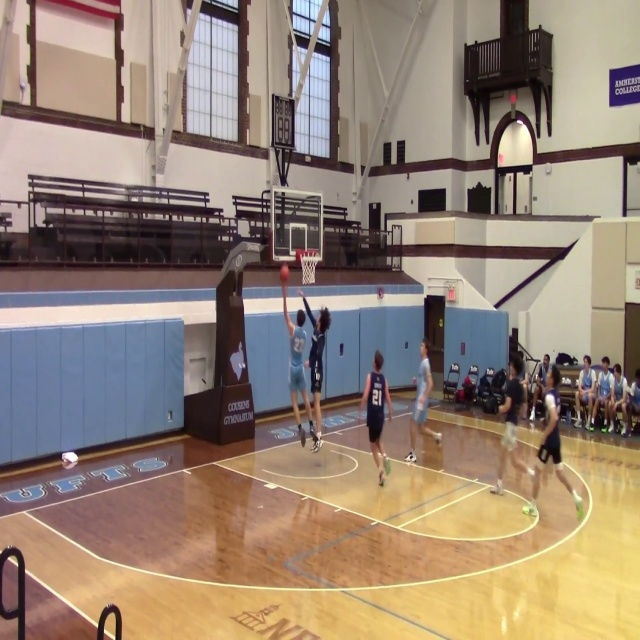Basketball: (61, 452, 78, 465), (279, 264, 289, 281), (522, 505, 530, 515)
